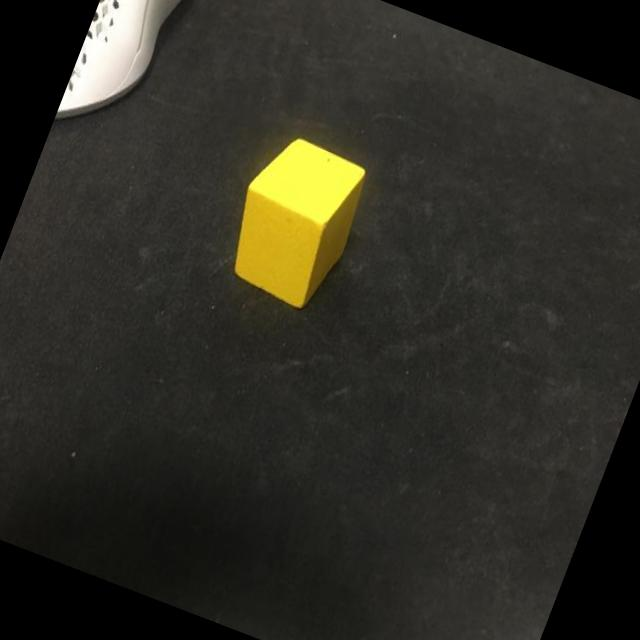yellow: (214, 127, 378, 319)
